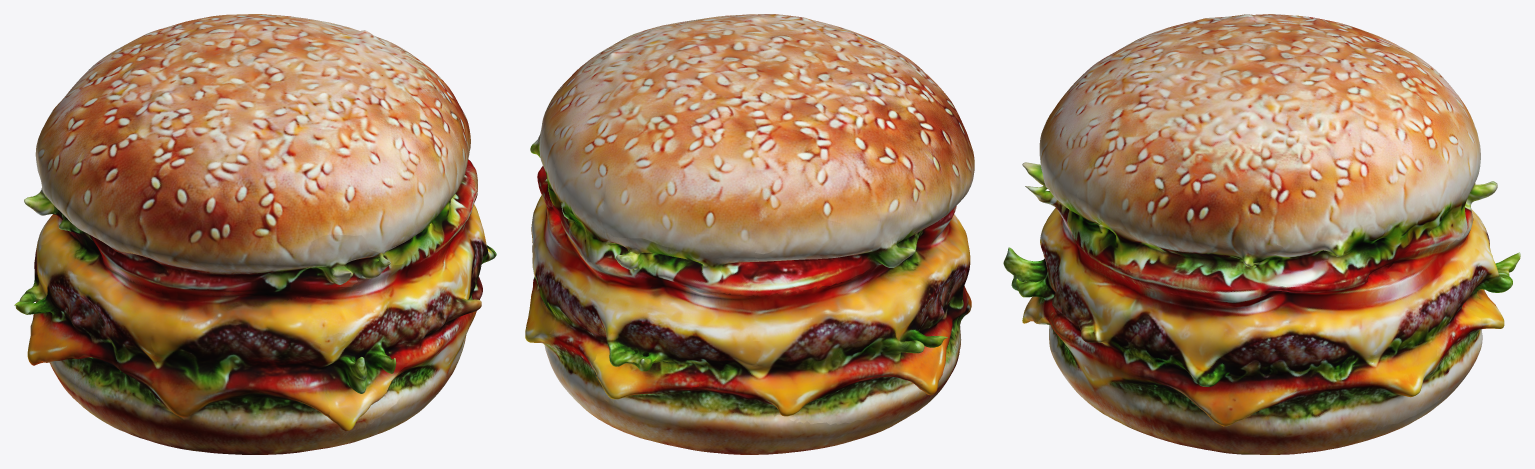
Rendered from tripo-hamburgers_generated_by_ai.glb.
The picture shows the model from 3 angles, left to right: view 1: azimuth 30°, elevation 25°; view 2: azimuth 150°, elevation 25°; view 3: azimuth 270°, elevation 25°; orthographic projection.
Visible parts, largest first — view 1: Object_4; view 2: Object_4; view 3: Object_4.
Part boxes in pixels (x1,y1,x2,y2): Object_4: [14, 14, 496, 454]; Object_4: [525, 14, 974, 454]; Object_4: [1003, 14, 1520, 454].
Bounding box in the file's own units: 0.7542 × 0.578 × 0.7829.
Materials: 1 (1 with a texture image).
